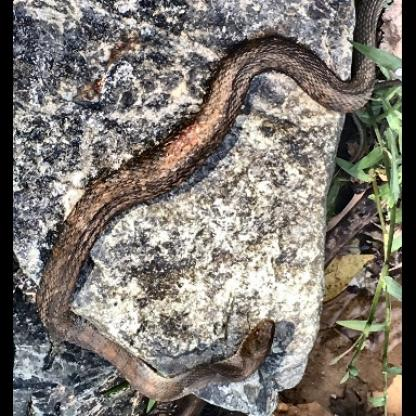Snake: (26, 35, 378, 406)
